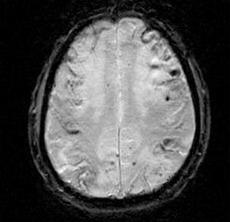Normal_Brain: (1, 1, 230, 222)
